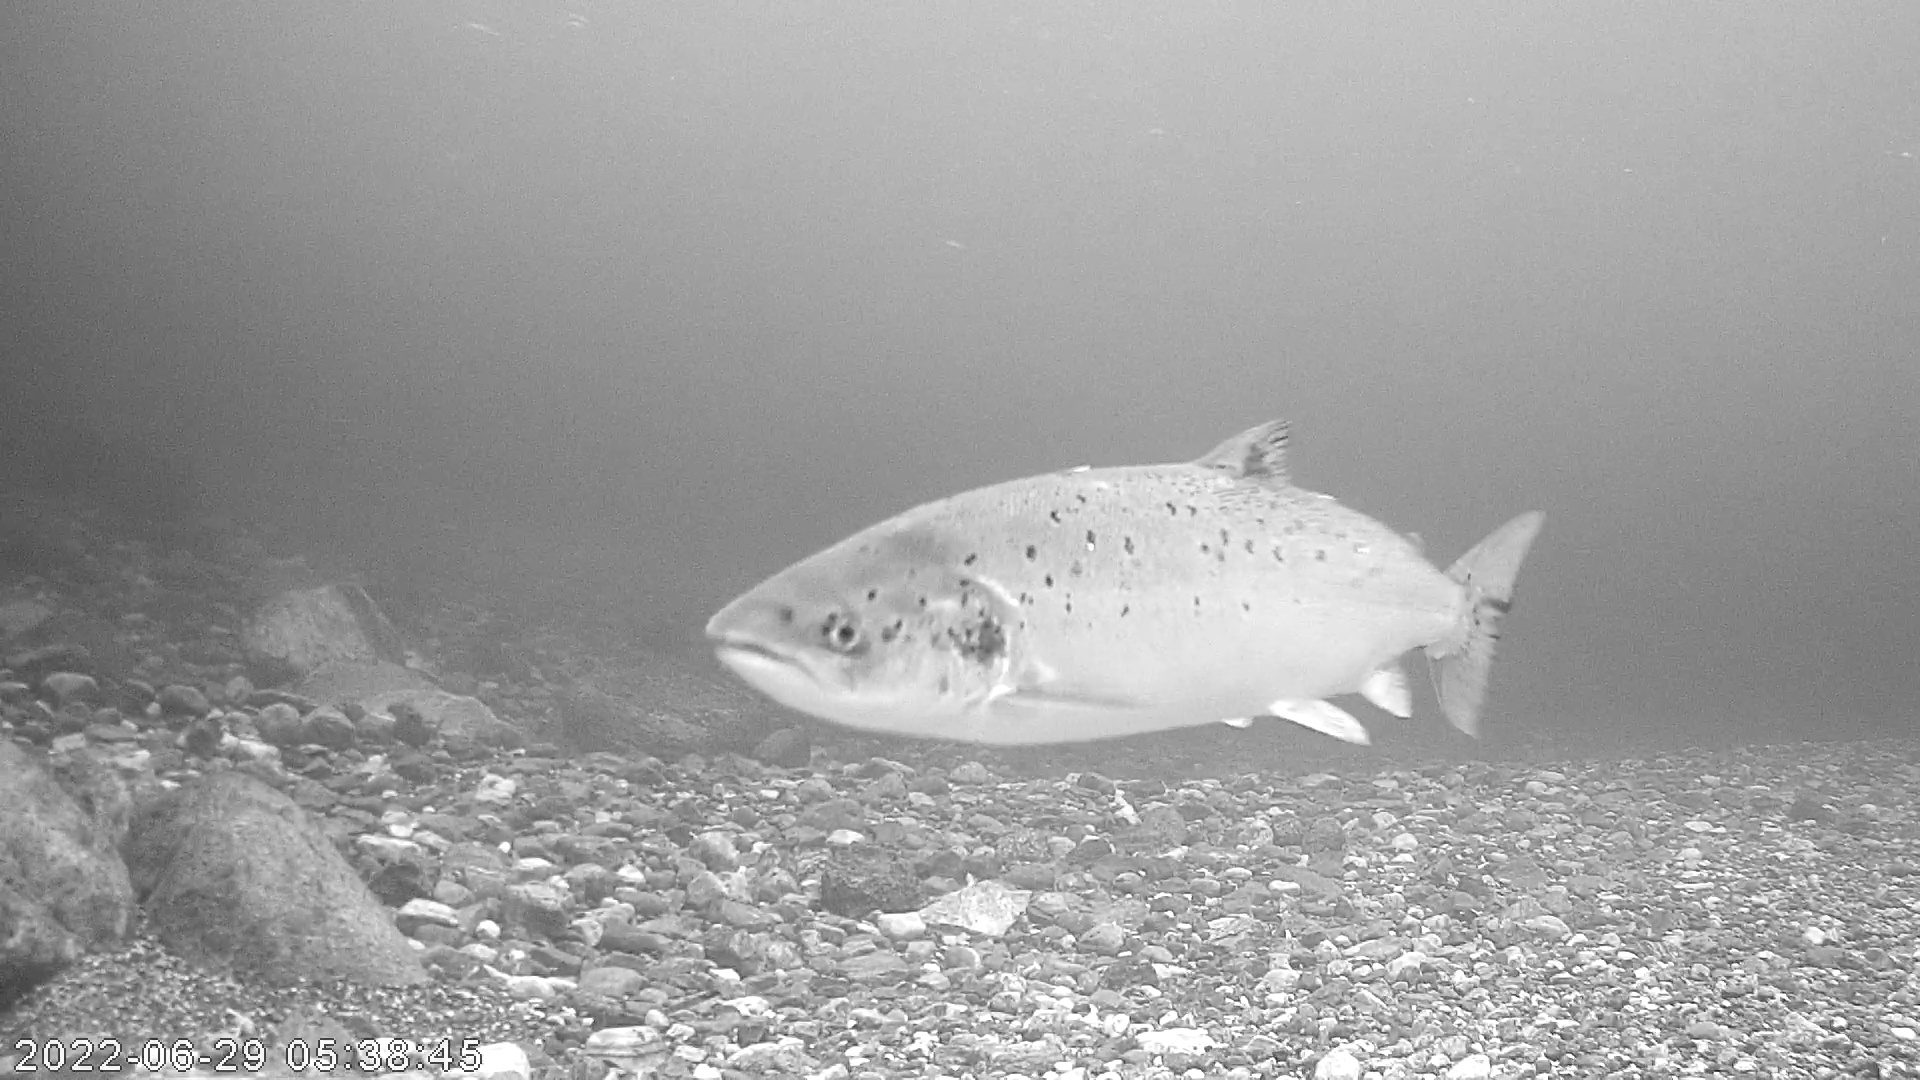salmon: (699, 343, 1530, 760)
